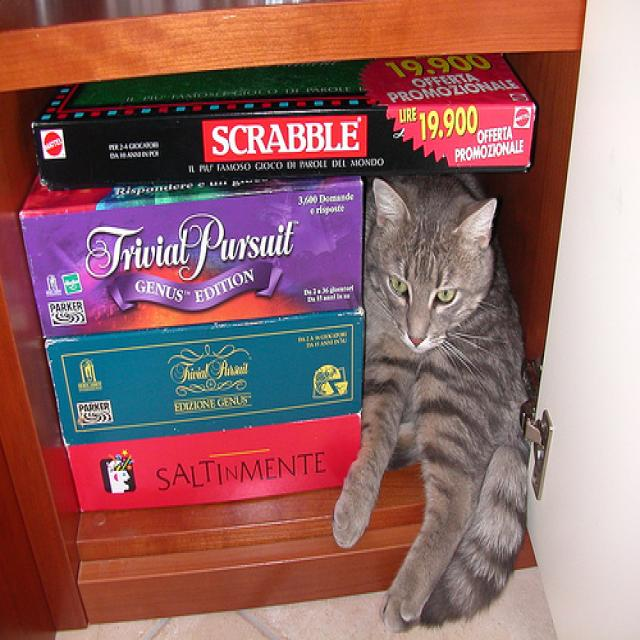left eye: (433, 284, 457, 306)
